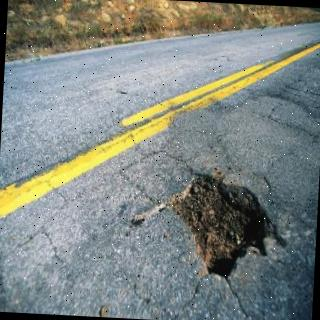pothole: (131, 176, 287, 280)
